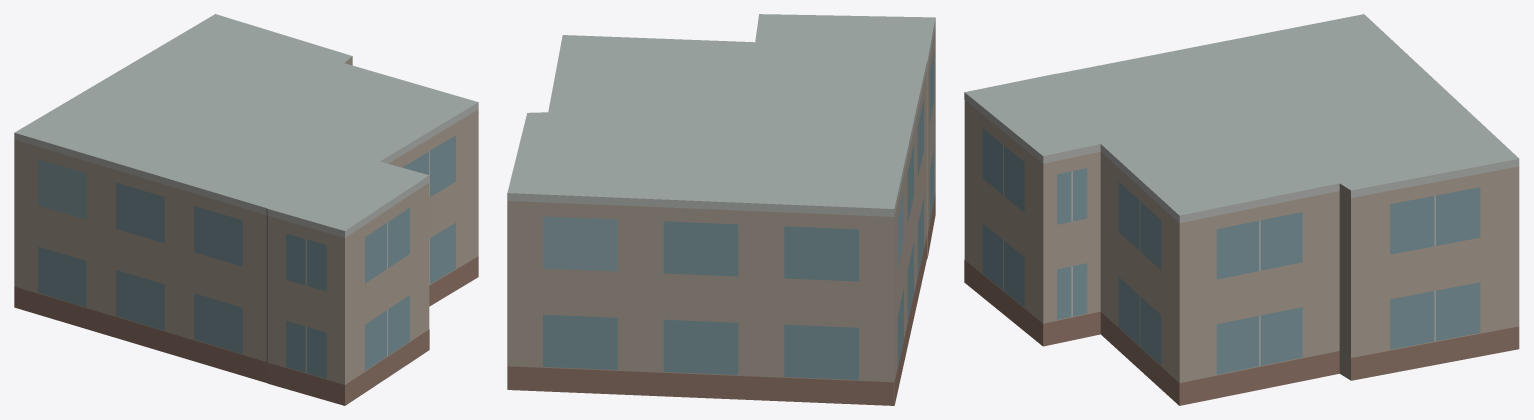
The model's file is survey-upis-32498078.glb.
The picture shows the model from 3 angles, left to right: view 1: azimuth 30°, elevation 25°; view 2: azimuth 150°, elevation 25°; view 3: azimuth 270°, elevation 25°; orthographic projection. The views are drawn at different scales.
Parts seen in each view (by area): view 1: survey-upis-32498078.tmp; view 2: survey-upis-32498078.tmp; view 3: survey-upis-32498078.tmp.
Boxes of the visible parts, box(x1,y1,x2,y2) form: survey-upis-32498078.tmp: box(14, 14, 478, 405); survey-upis-32498078.tmp: box(507, 14, 935, 405); survey-upis-32498078.tmp: box(964, 14, 1519, 405).
Bounding box in the file's own units: 13.87 × 6.1 × 16.14.
